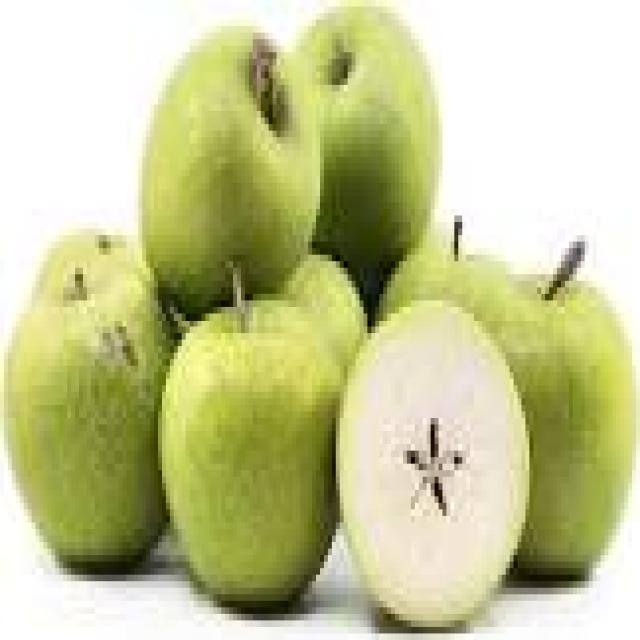apple: (380, 236, 636, 581), (336, 301, 529, 626), (4, 229, 173, 568), (162, 301, 339, 607), (143, 27, 319, 320), (297, 0, 442, 300), (281, 255, 367, 372)
